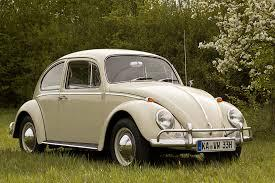volkswagen: (9, 49, 251, 168)
